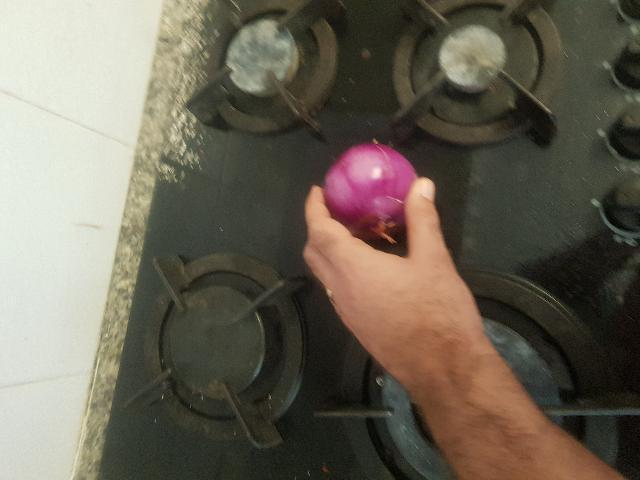onion: (322, 138, 419, 237)
